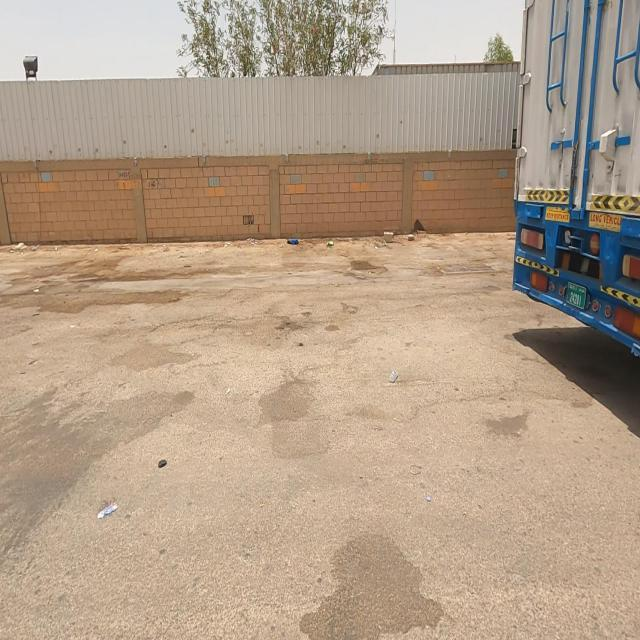debris: (358, 196, 444, 274), (0, 202, 52, 290), (82, 467, 124, 543), (269, 205, 315, 274), (370, 350, 413, 410), (310, 216, 349, 270)
